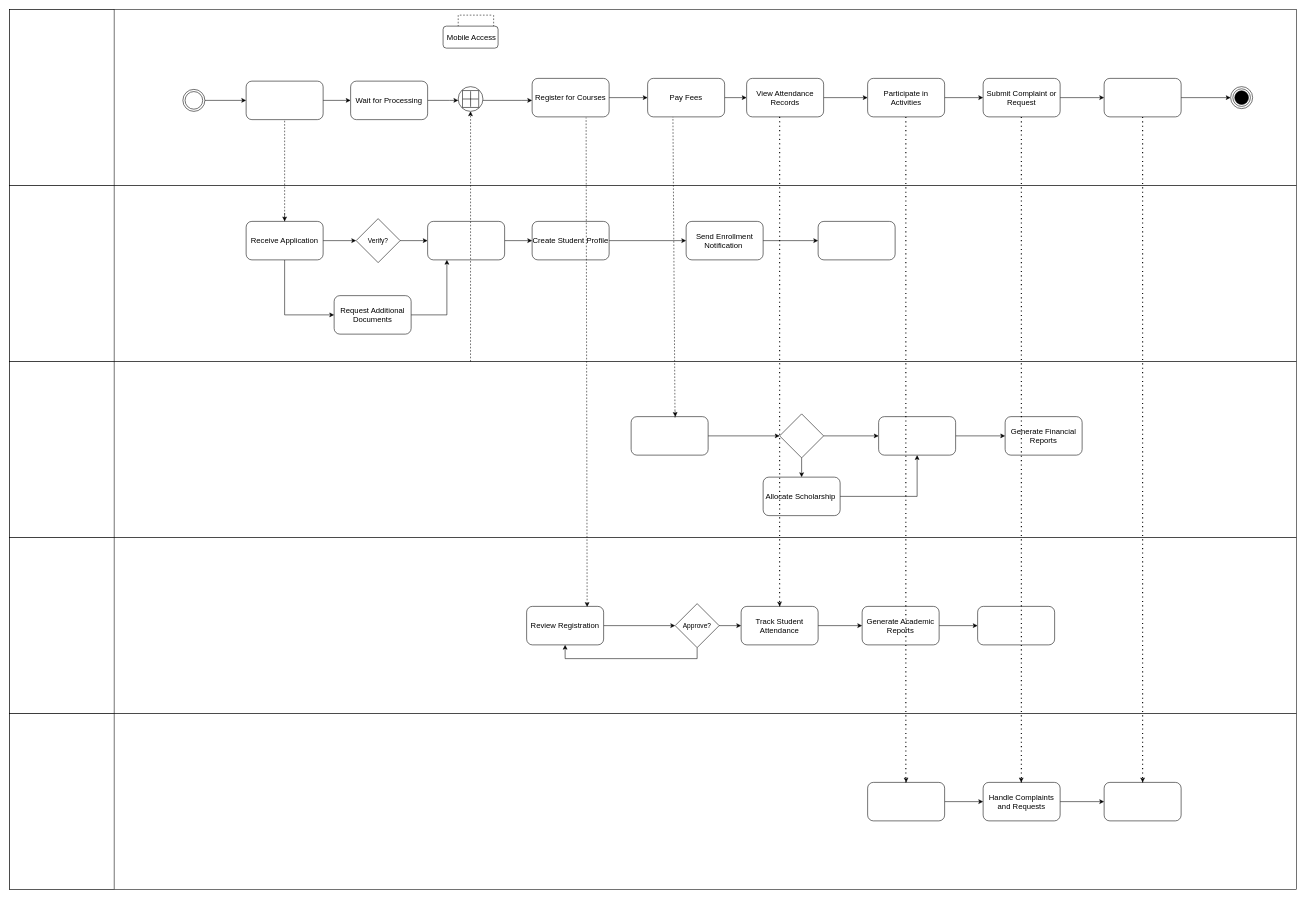
The diagram is 1306 pixels wide and 899 high, and some of its shapes have lost their labels. Here are the shapes that lost their labels. From the top down, the box of each, then its label:
(246, 81, 323, 120): Submit Application
(1104, 78, 1181, 117): View Reports and Documents
(427, 221, 505, 260): Convert Student ID to Matriculation No.
(818, 221, 895, 260): Secure Student Data
(631, 416, 708, 455): Process Payment
(779, 413, 824, 458): Verify for Scholarship?
(878, 416, 956, 455): Generate Receipt
(977, 606, 1055, 645): Generate Documents
(867, 782, 945, 821): Monitor Extracurricular Activities
(1104, 782, 1181, 821): Automate Workflows
